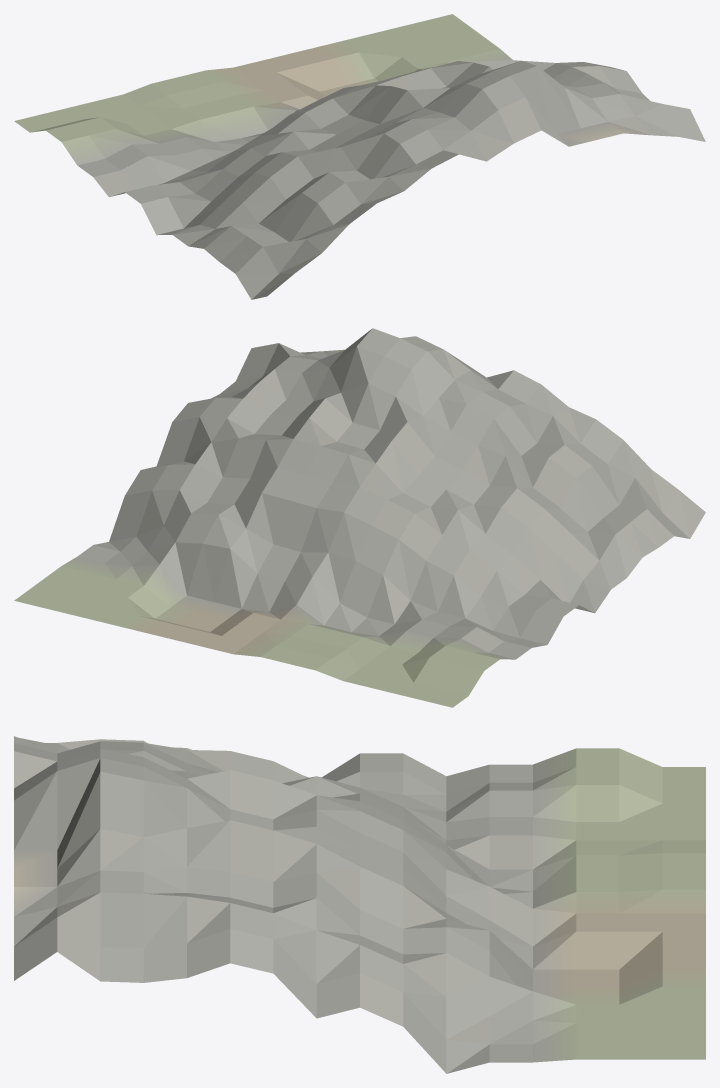
3 renders of one model, top to bottom at view 1: azimuth 30°, elevation 25°; view 2: azimuth 150°, elevation 25°; view 3: azimuth 270°, elevation 25°, orthographic. The views are drawn at different scales.
Size of the model in its own units: 32 by 11.03 by 32.
